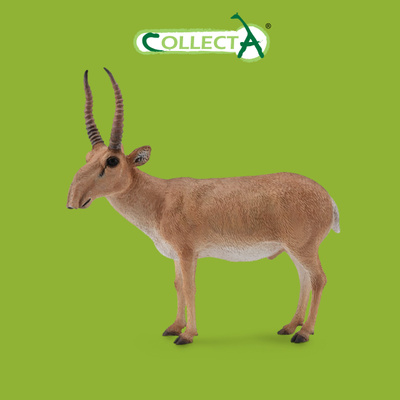saiga: (65, 66, 339, 346)
